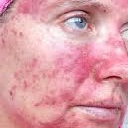Actinic: (61, 41, 109, 79), (38, 87, 72, 109), (13, 3, 41, 24)
